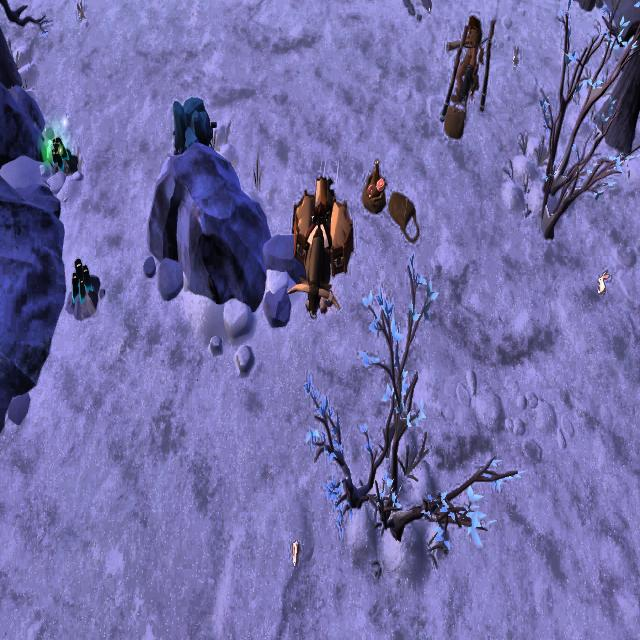enemy_factionKeeper: (446, 11, 484, 99)
ore_t5: (66, 255, 94, 307), (47, 132, 68, 169)
rock_t4: (171, 93, 215, 151)
